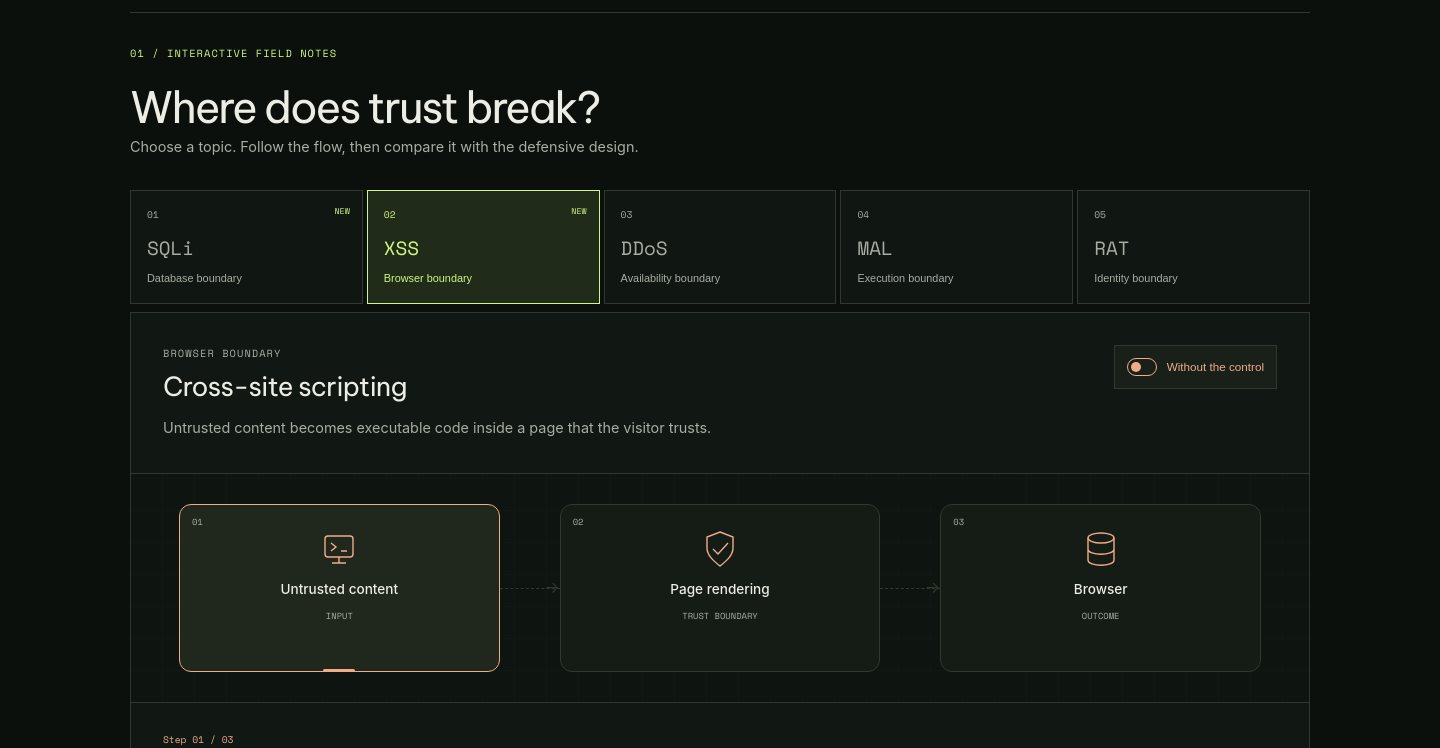
Scenario: deep-links to XSS and explains the defensive outcome without running code
(page scrolled)
Click the switch: [1195, 367] box [1114, 345, 1277, 389]
(page scrolled)
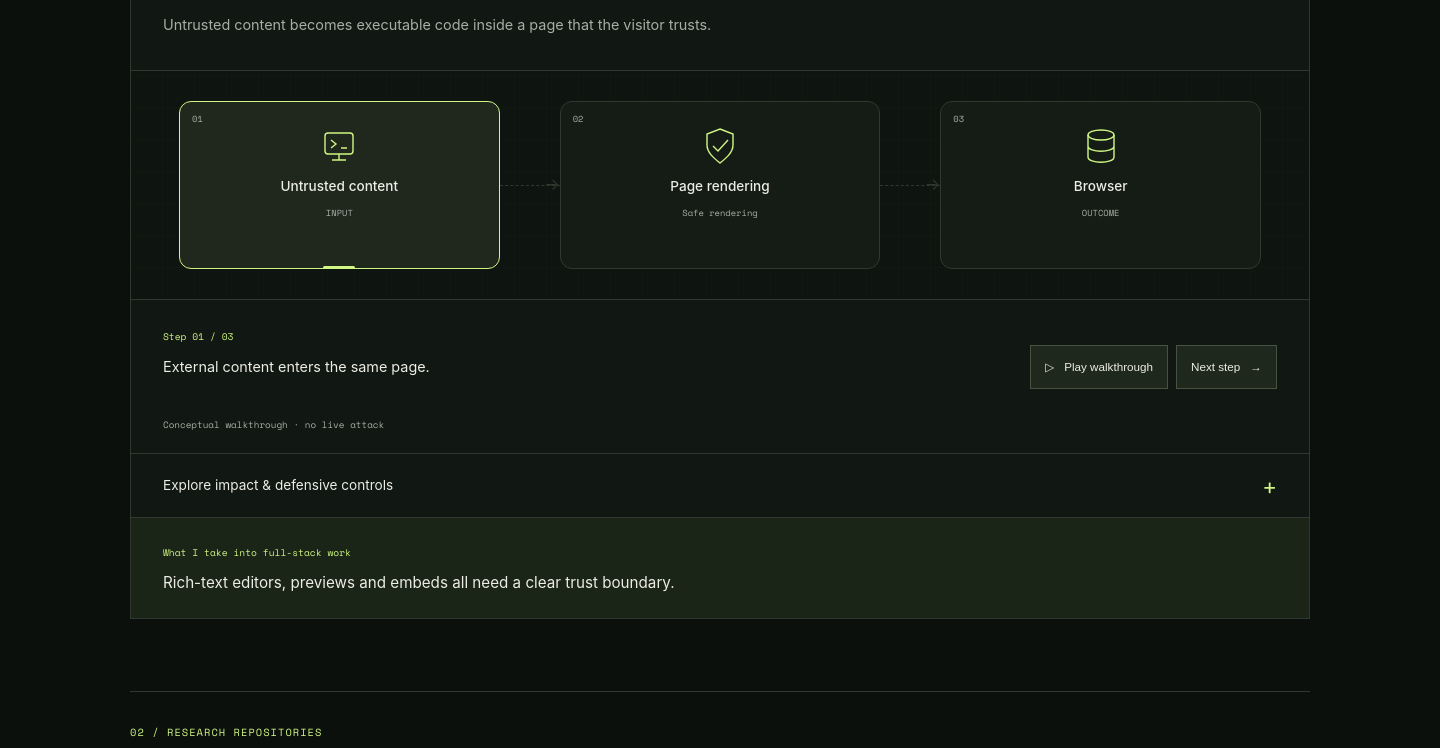
Click the button "Next step →": [1226, 367] box [1176, 345, 1277, 389]
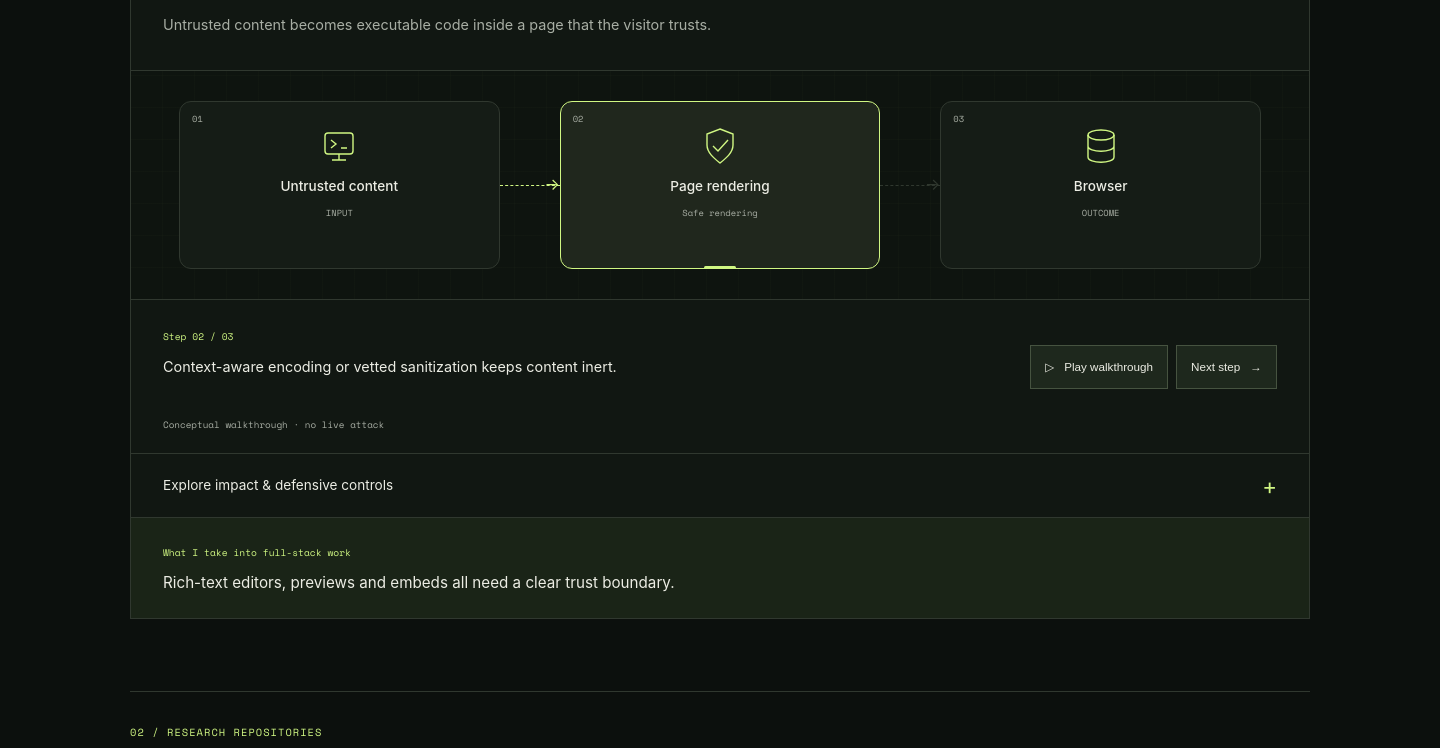
Click the button "Next step →": [1226, 367] box [1176, 345, 1277, 389]
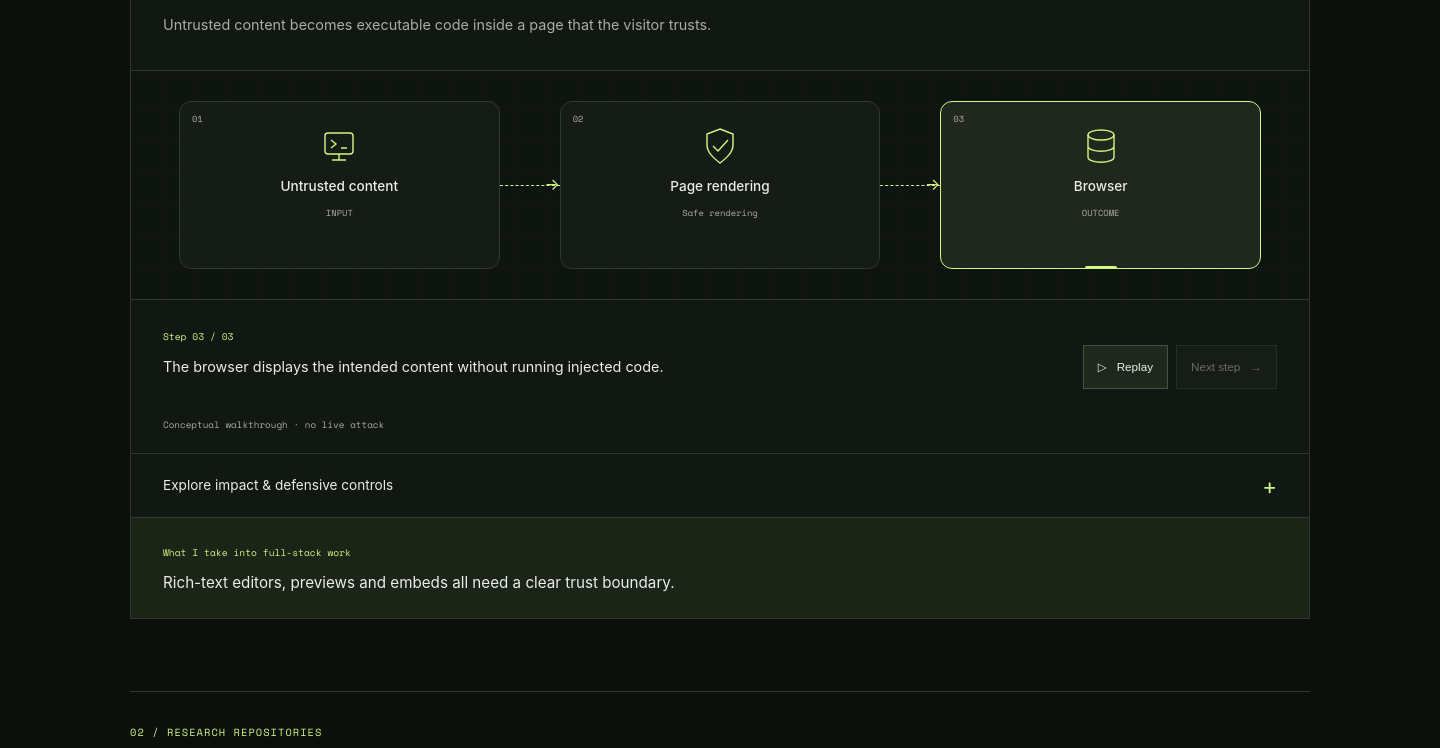
Expected: the text "The browser displays the intended content without running injected code." is shown, [163, 358, 664, 375]
Expected: the button "Next step →" is disabled, [1176, 345, 1277, 389]
